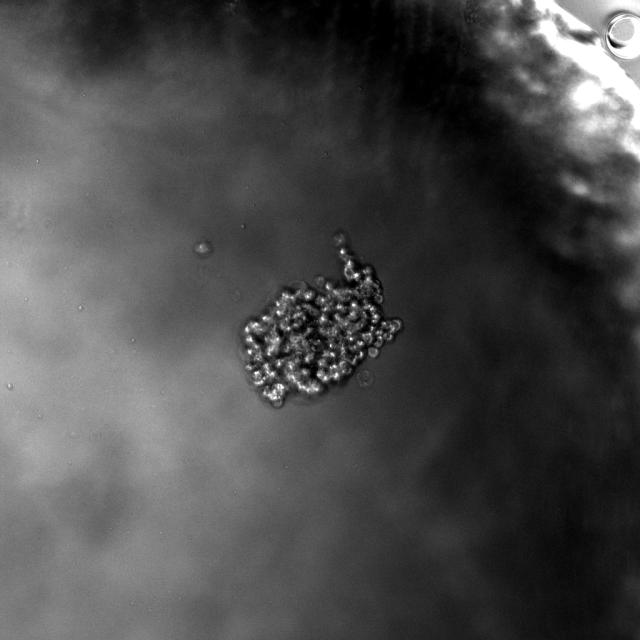organoid: (244, 234, 402, 407)
